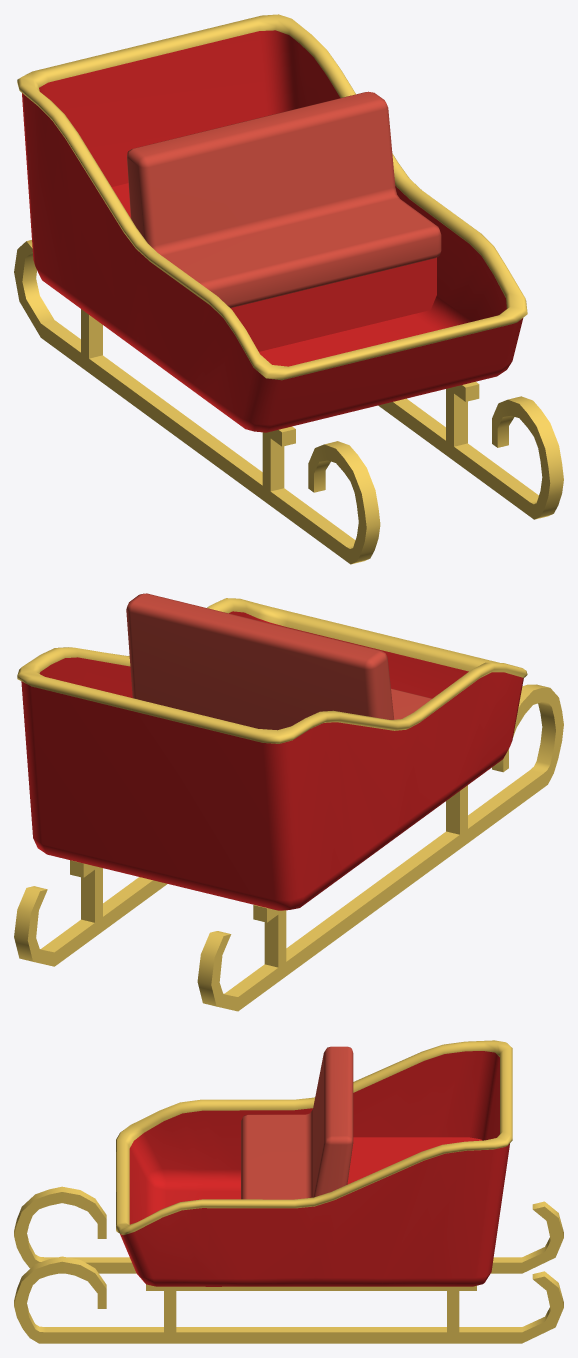
File: Santas_Sleigh_1.glb
The picture shows the model from 3 angles, top to bottom: view 1: azimuth 30°, elevation 25°; view 2: azimuth 150°, elevation 25°; view 3: azimuth 270°, elevation 25°; orthographic projection. The views are drawn at different scales.
Parts seen in each view (by area): view 1: Santas_Sleigh_1; view 2: Santas_Sleigh_1; view 3: Santas_Sleigh_1.
Boxes of the visible parts, x1,y1,x2,y2 form: Santas_Sleigh_1: [14, 14, 563, 564]; Santas_Sleigh_1: [14, 593, 563, 1011]; Santas_Sleigh_1: [14, 1040, 563, 1343].
Bounding box in the file's own units: 1.06 × 1.02 × 2.36.
Materials: 1 (1 with a texture image).
